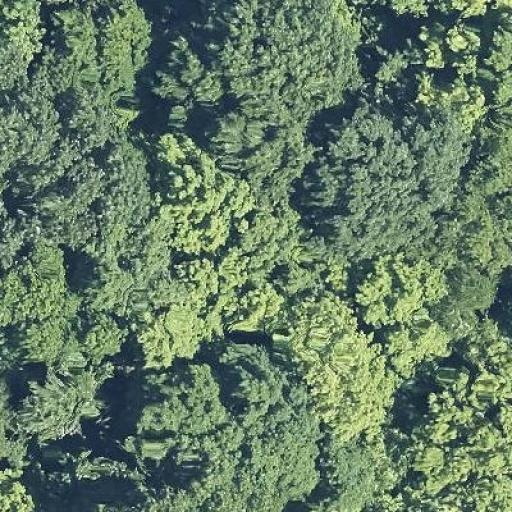tree-top: (156, 4, 368, 173), (133, 344, 319, 511), (9, 106, 160, 244), (303, 102, 424, 262), (400, 346, 510, 510), (282, 294, 404, 436), (143, 122, 247, 256), (378, 23, 490, 114), (0, 240, 81, 362), (16, 357, 112, 442), (89, 245, 190, 325), (126, 364, 226, 439), (350, 250, 446, 328), (322, 428, 398, 512), (95, 2, 157, 104), (469, 139, 512, 277), (248, 217, 326, 291), (418, 117, 464, 212), (0, 2, 44, 100), (0, 463, 39, 511)
